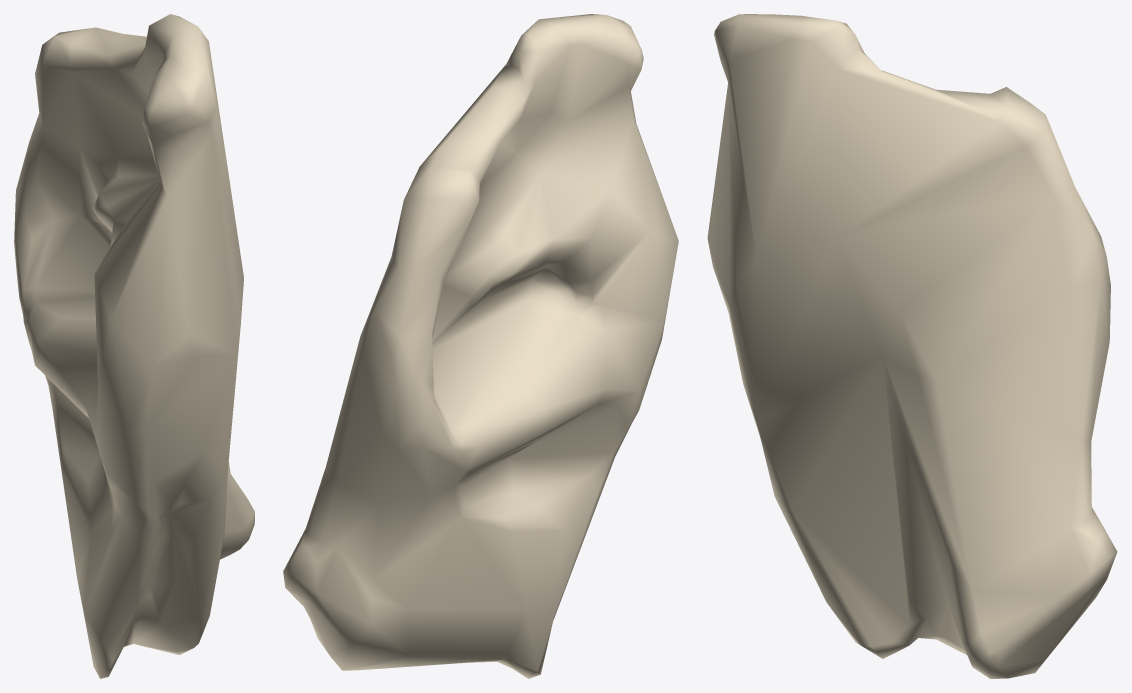
The model's file is lacrimal-bone-l.glb.
The picture shows the model from 3 angles, left to right: view 1: azimuth 30°, elevation 25°; view 2: azimuth 150°, elevation 25°; view 3: azimuth 270°, elevation 25°; orthographic projection. The views are drawn at different scales.
Parts seen in each view (by area): view 1: Lacrimal bone.l; view 2: Lacrimal bone.l; view 3: Lacrimal bone.l.
Boxes of the visible parts, <box> form: Lacrimal bone.l: <box>14,14,254,678</box>; Lacrimal bone.l: <box>283,14,678,678</box>; Lacrimal bone.l: <box>707,14,1117,678</box>.
Bounding box in the file's own units: 0.0107 × 0.0251 × 0.0147.
